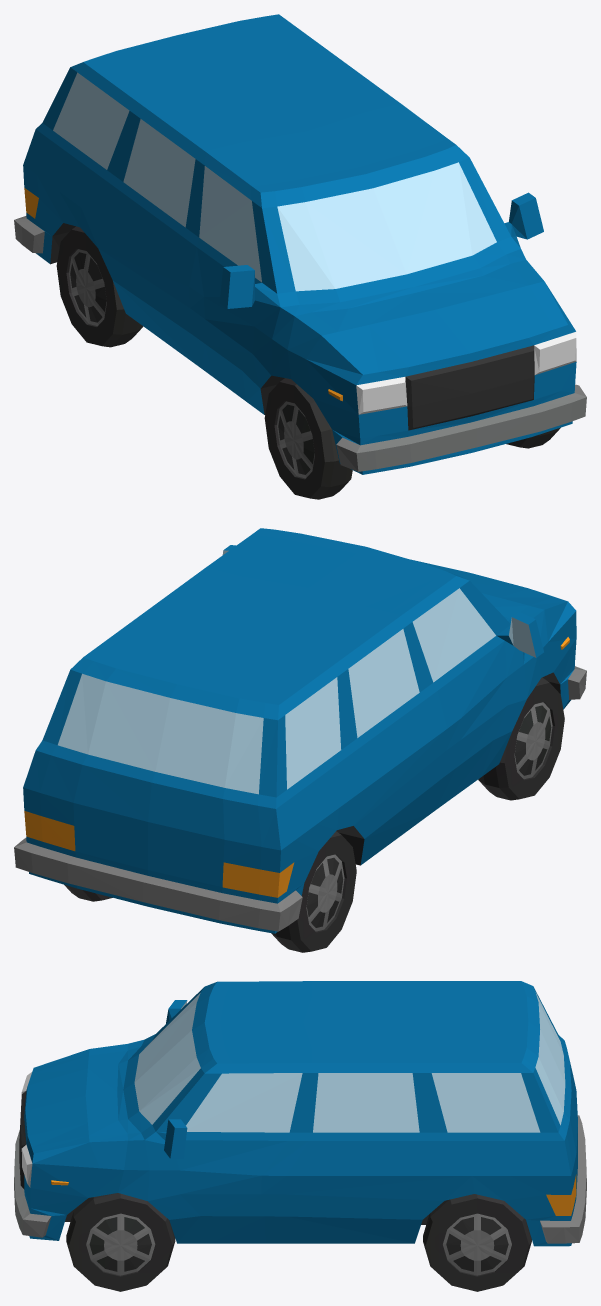
The model's file is van.glb.
The picture shows the model from 3 angles, top to bottom: view 1: azimuth 30°, elevation 25°; view 2: azimuth 150°, elevation 25°; view 3: azimuth 270°, elevation 25°; orthographic projection. The views are drawn at different scales.
Parts seen in each view (by area): view 1: Van; view 2: Van; view 3: Van.
Boxes of the visible parts, x1,y1,x2,y2 form: Van: (14, 14, 586, 499); Van: (14, 528, 586, 952); Van: (14, 981, 586, 1291).
Bounding box in the file's own units: 43.89 × 34.33 × 80.23.
Materials: 1 (1 with a texture image).
